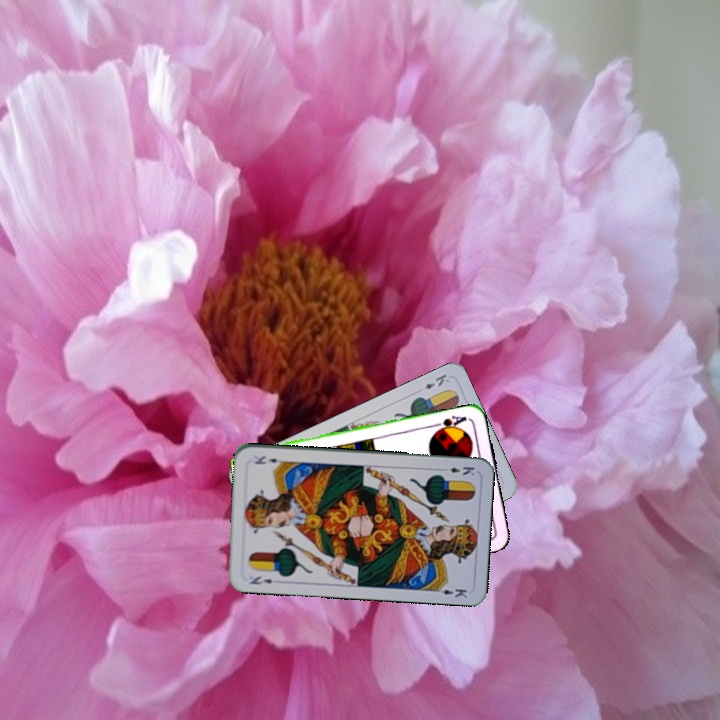EK: (420, 370, 452, 392), (437, 463, 477, 478), (246, 572, 275, 587)
SA: (430, 411, 469, 435)
